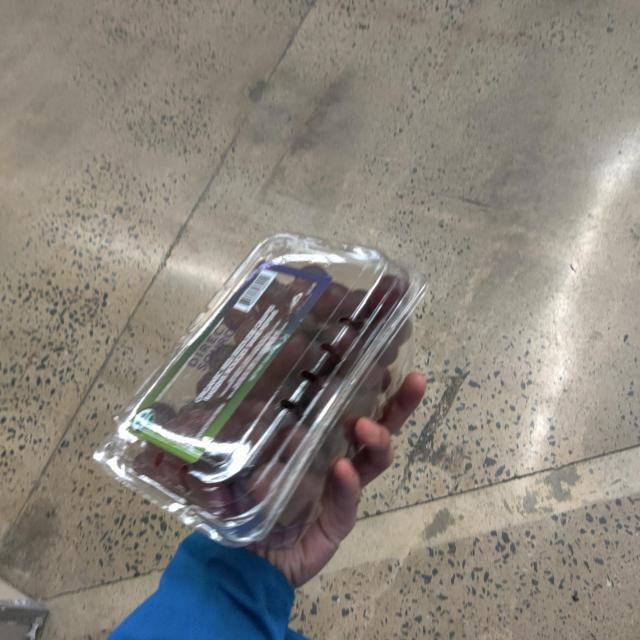Grapes: (109, 236, 431, 550)
